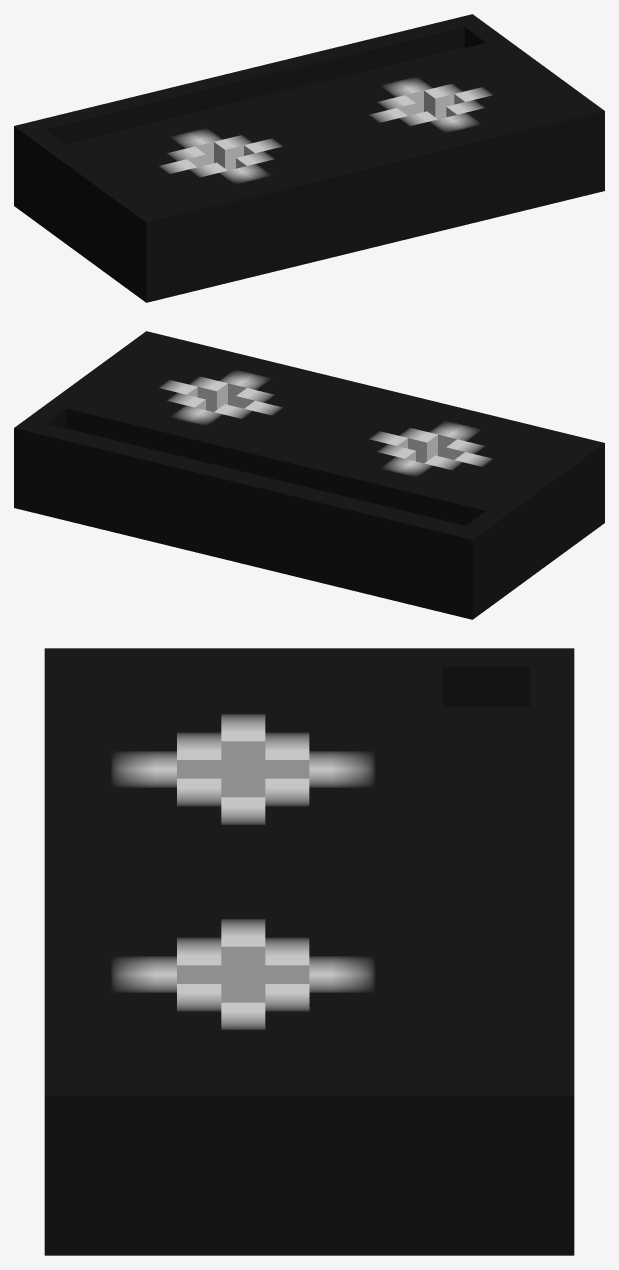
The model's file is SmallObject_VHSTape.fbx.
3 renders of one model, top to bottom at view 1: azimuth 30°, elevation 25°; view 2: azimuth 150°, elevation 25°; view 3: azimuth 270°, elevation 25°, orthographic. The views are drawn at different scales.
Visible parts, largest first — view 1: VHSTape; view 2: VHSTape; view 3: VHSTape.
Part boxes in pixels (<box>): VHSTape: <box>14,14,604,302</box>; VHSTape: <box>14,331,604,619</box>; VHSTape: <box>44,648,574,1255</box>.
Bounding box in the file's own units: 24 × 4 × 12.
